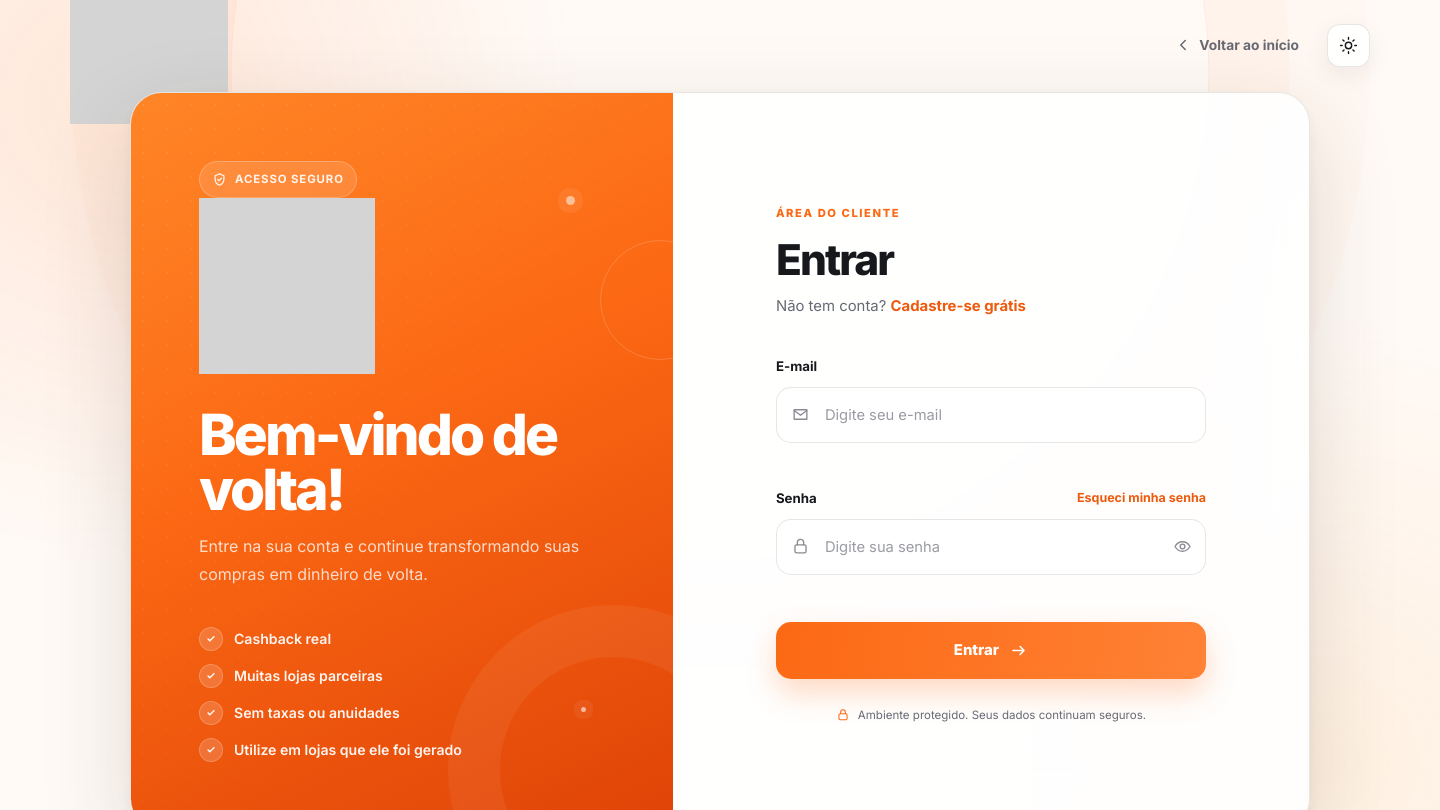
Test: experiência de login › valida os campos e direciona o foco para o primeiro erro
Step 1. Click the button "Entrar" → (991, 650), box [776, 622, 1206, 679]
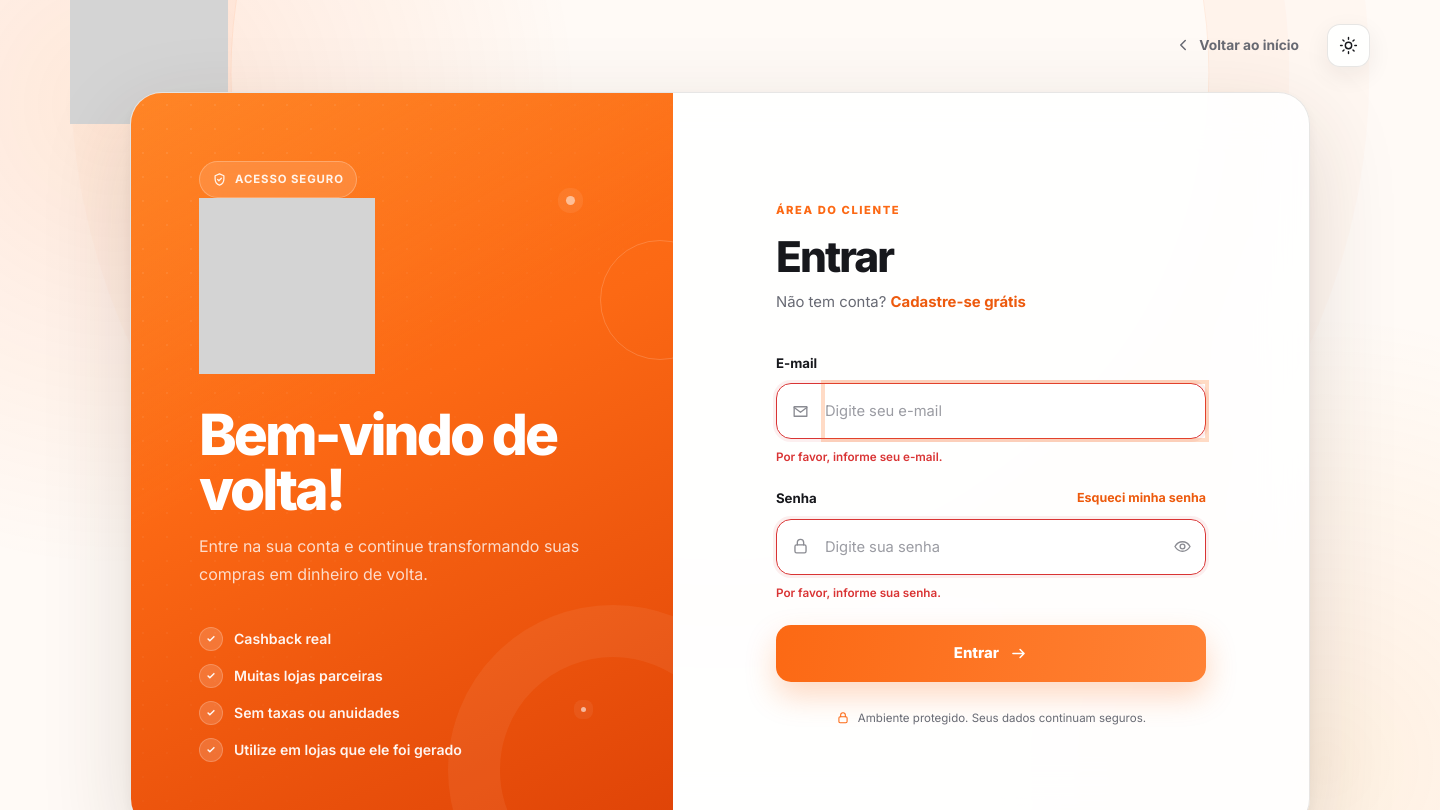
Check: the text "Por favor, informe seu e-mail." is shown, box [776, 450, 942, 464]
Check: the text "Por favor, informe sua senha." is shown, box [776, 586, 941, 600]
Step 2. Type "email-inválido" into the field labelled "E-mail" → (1015, 411), box [825, 384, 1205, 438]
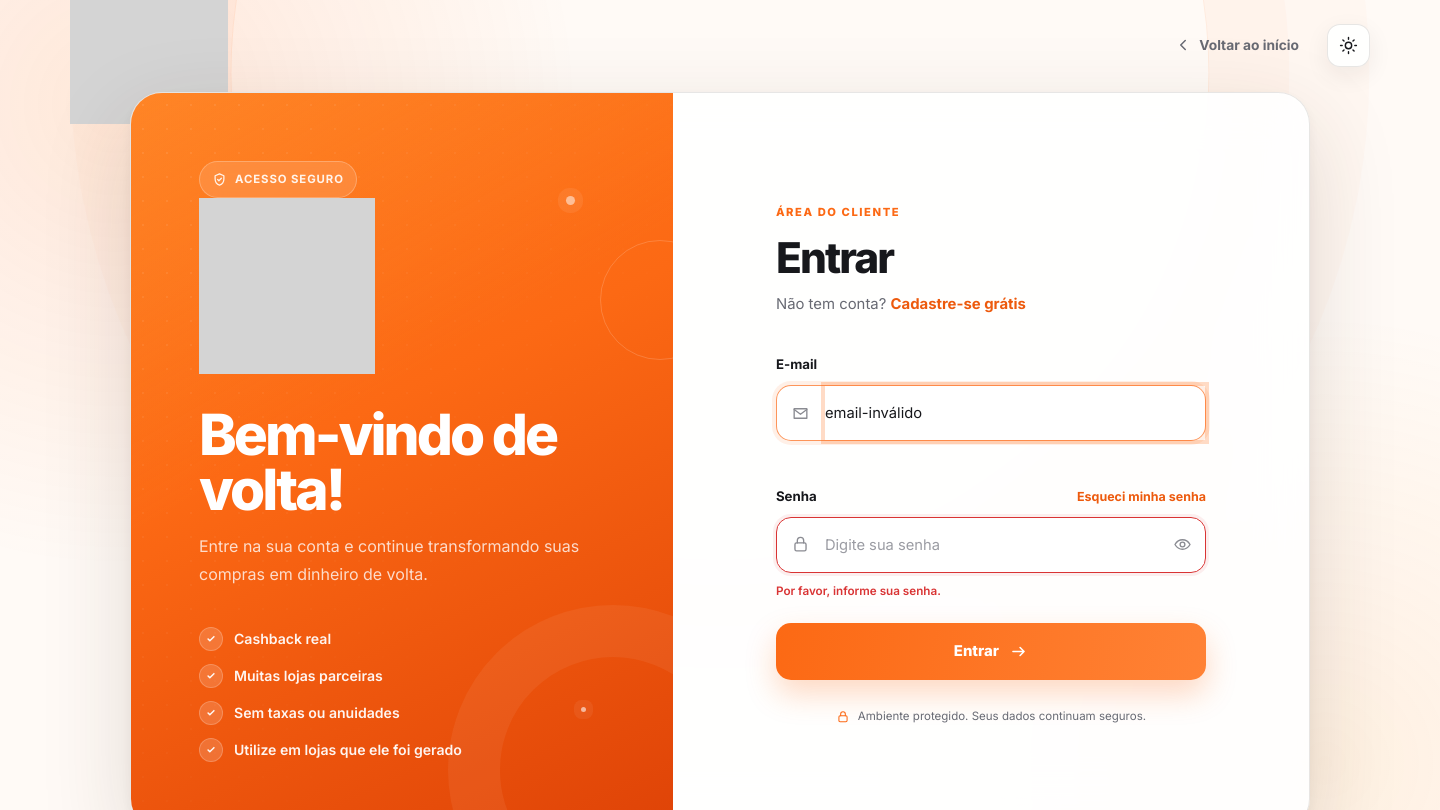
Step 3. Type "senha" into the password field labelled "Senha" → (992, 545), box [825, 518, 1160, 572]
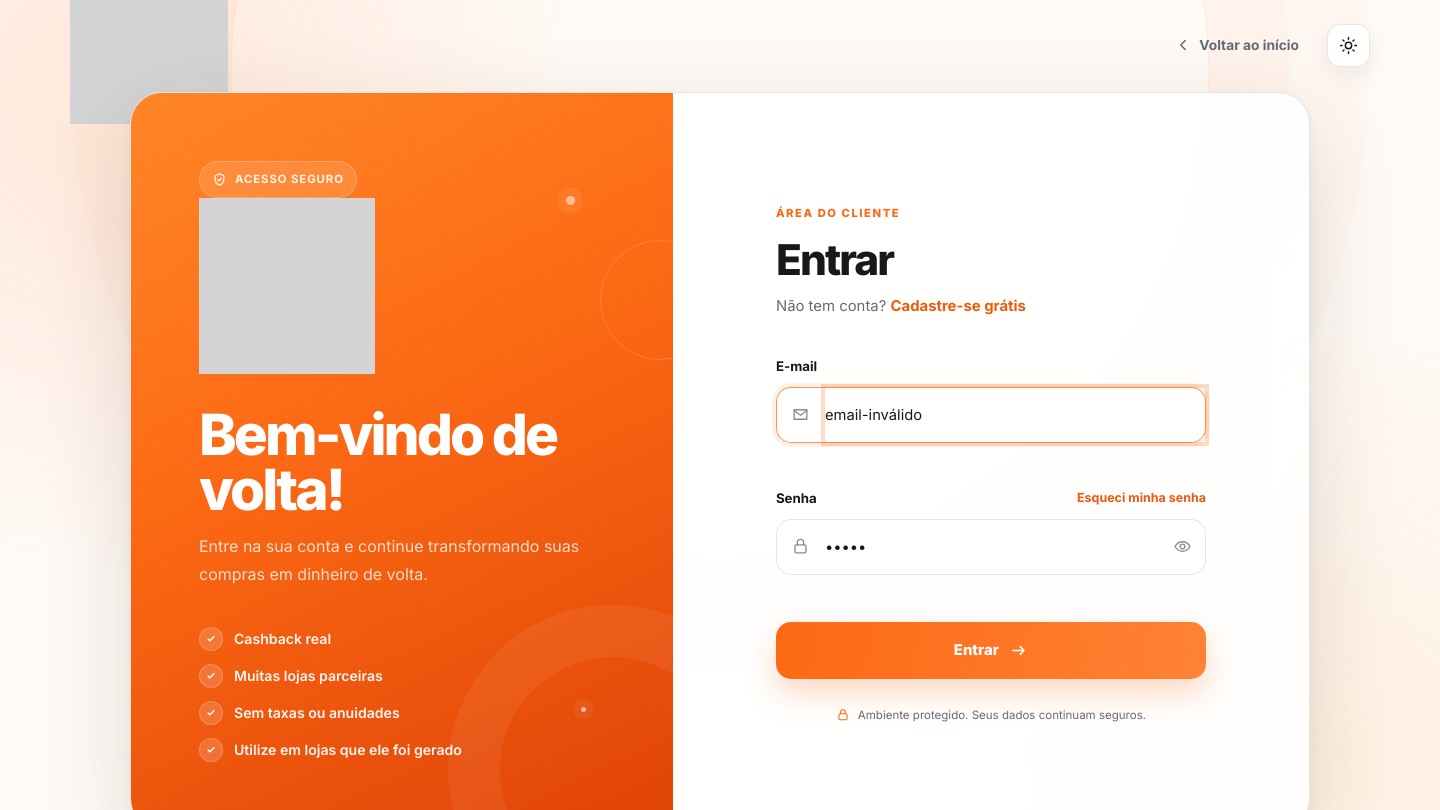
Step 4. Click the button "Entrar" → (991, 650), box [776, 622, 1206, 679]
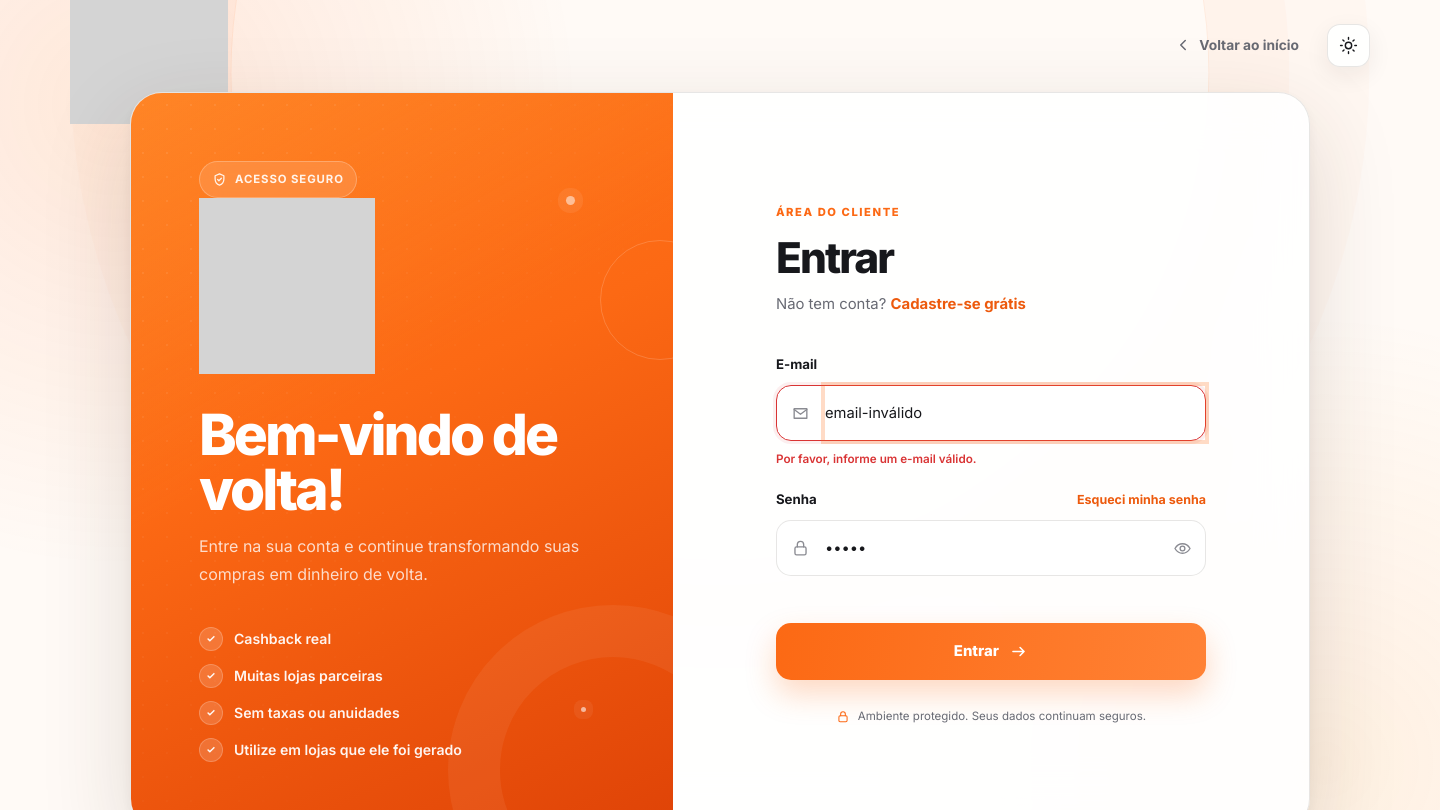
Check: the text "Por favor, informe um e-mail válido." is shown, box [776, 452, 976, 466]
